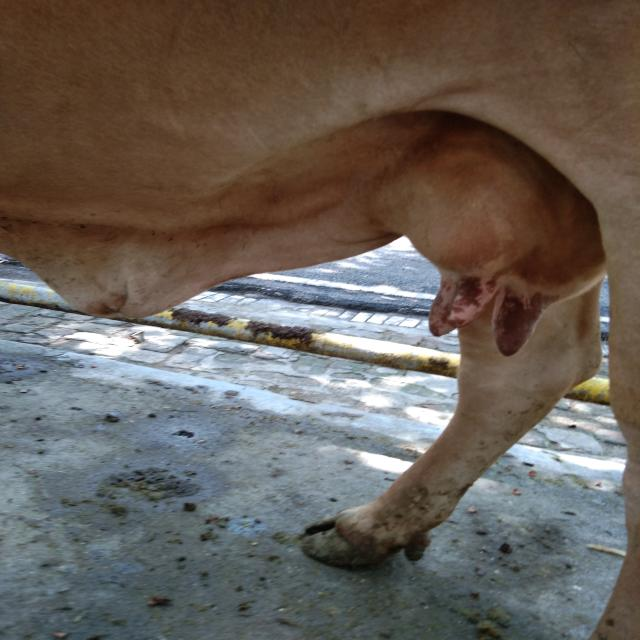Hoof: (300, 505, 430, 570)
